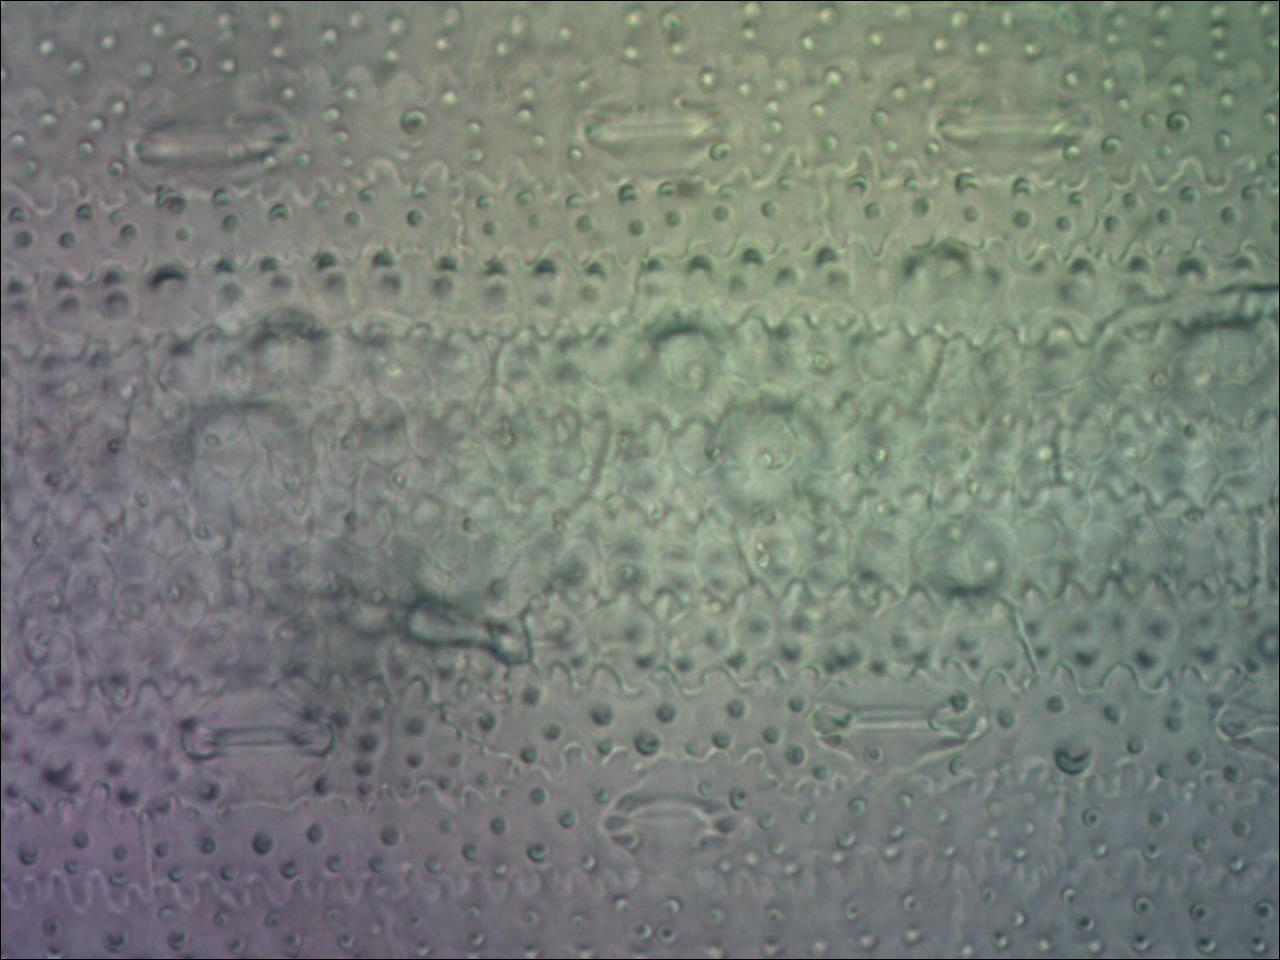stoma: (114, 89, 313, 195), (802, 664, 993, 773), (566, 76, 752, 185), (183, 676, 338, 799), (922, 80, 1105, 170), (596, 767, 757, 867), (1219, 664, 1280, 759)
